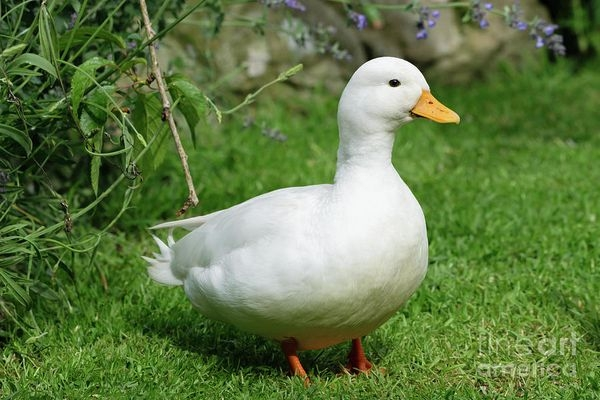Vịt/Duck: (231, 43, 468, 397)
